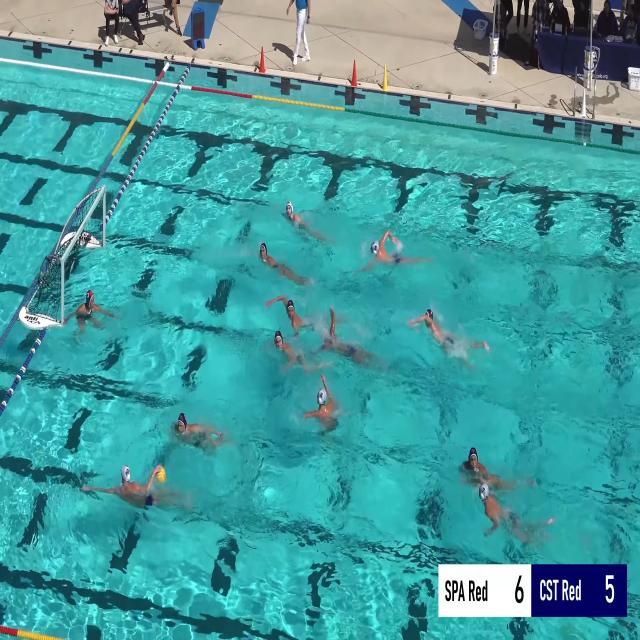ball: (156, 466, 166, 482)
